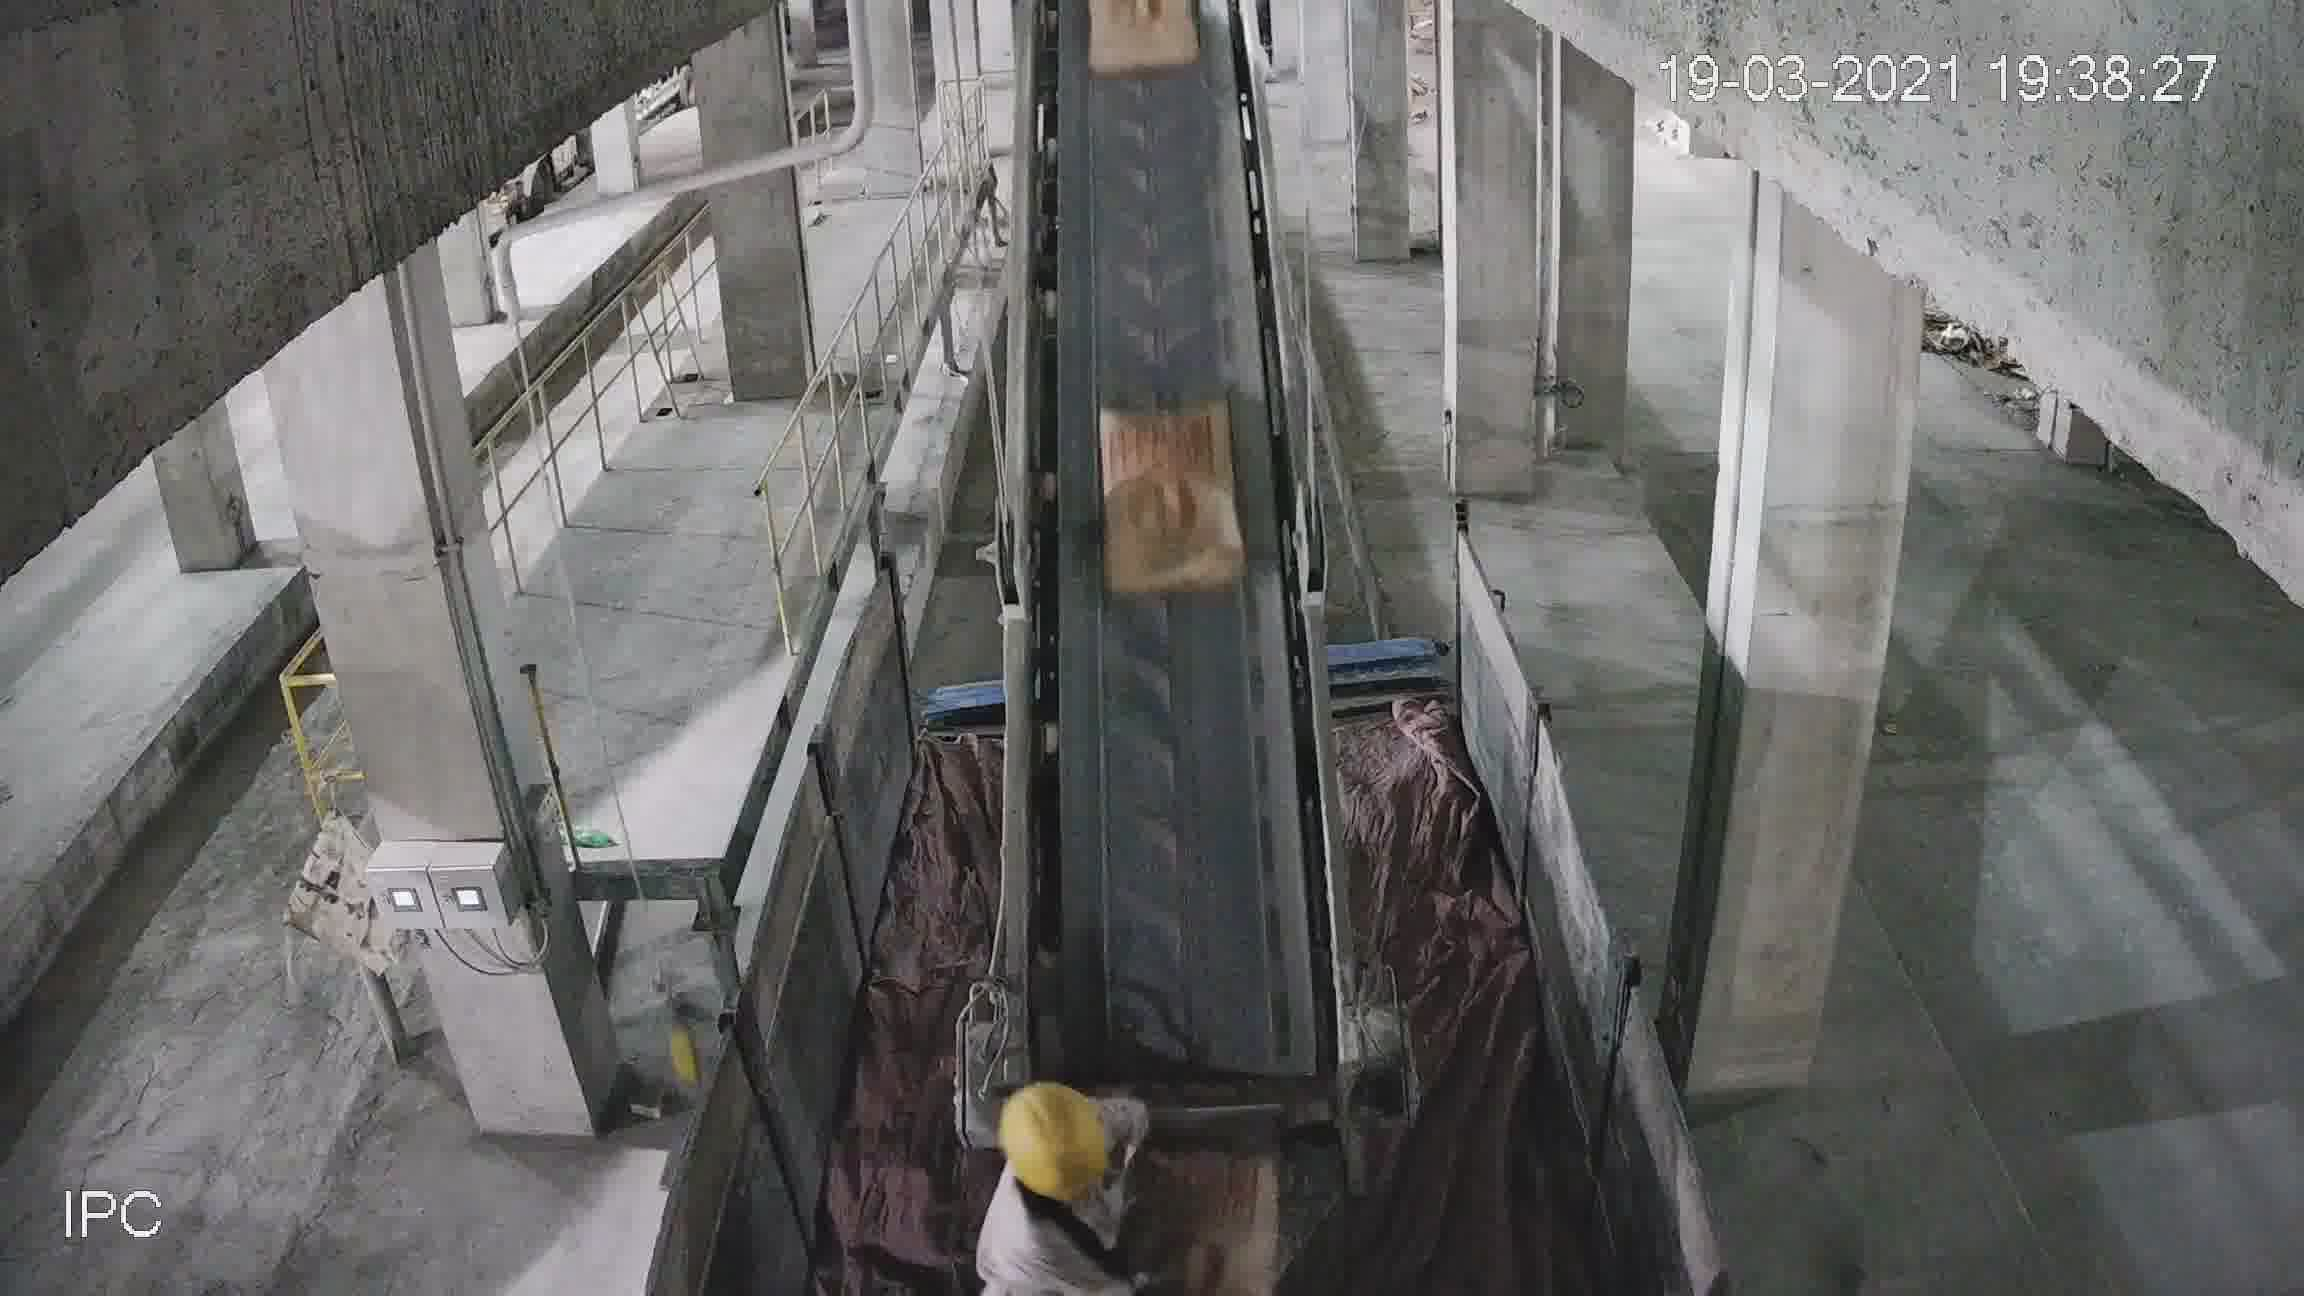bag: (1100, 404, 1237, 587), (1152, 1154, 1274, 1275), (1093, 14, 1209, 59)
belt: (1010, 81, 1324, 1131)
